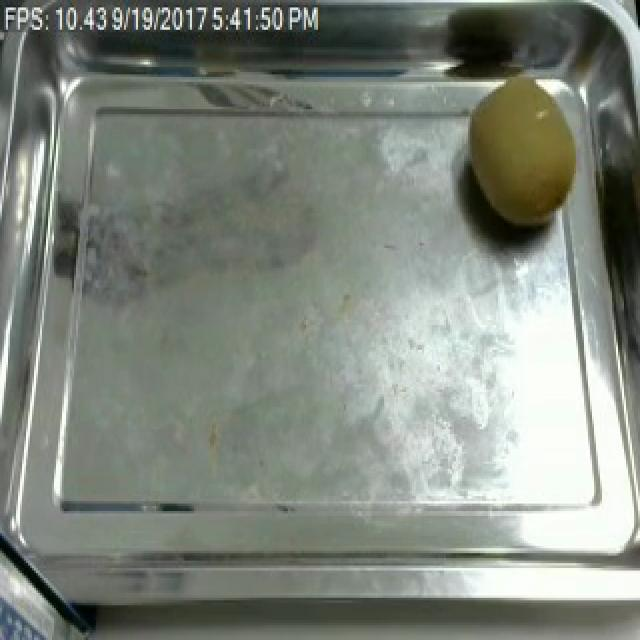Fruit: (454, 62, 594, 241)
